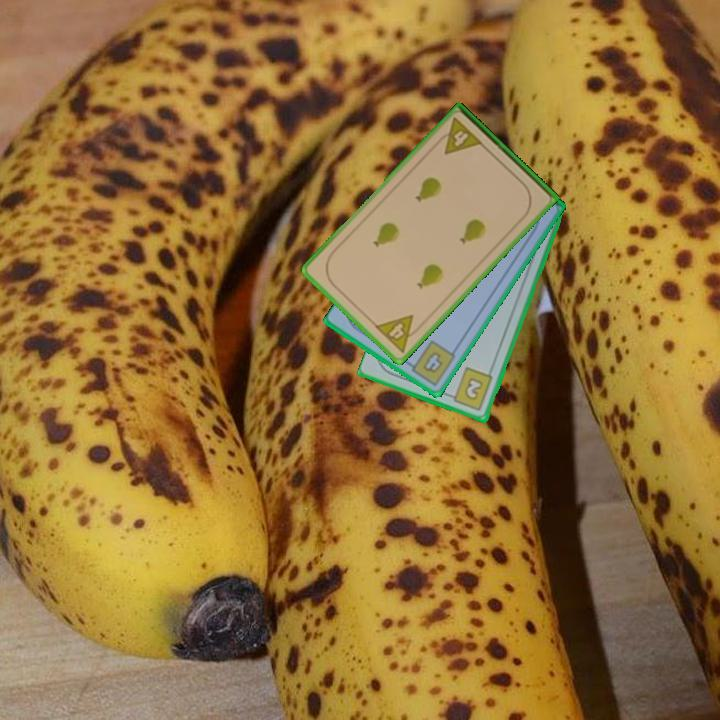2b: (445, 364, 496, 414)
4b: (403, 337, 459, 389)
4p: (371, 311, 426, 356), (432, 114, 486, 158)
